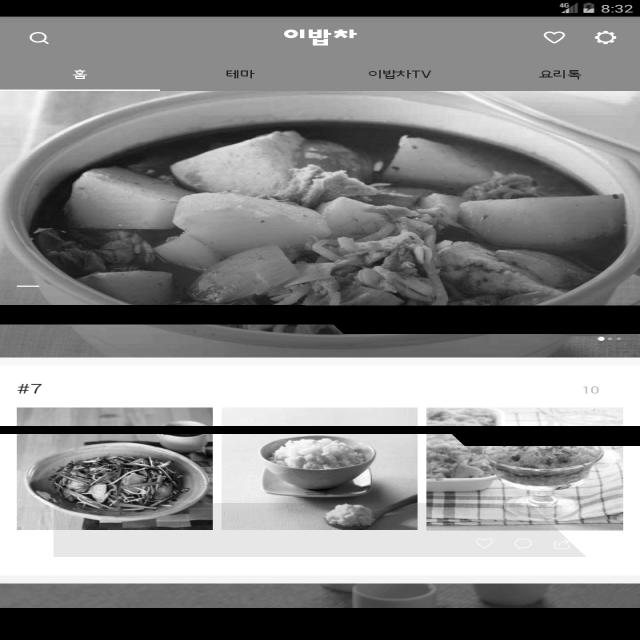ImageButton: (535, 23, 578, 51), (582, 27, 625, 49), (23, 26, 63, 48)
ImageView: (3, 91, 630, 306), (15, 408, 209, 526), (428, 409, 618, 528), (226, 409, 412, 527)
TextView: (266, 23, 378, 50), (359, 62, 443, 88), (528, 62, 602, 85), (214, 62, 268, 82)
